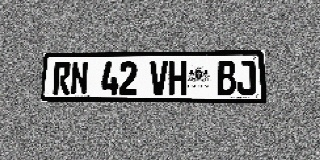2: (119, 61, 137, 95)
4: (101, 61, 119, 95)
B: (217, 60, 236, 95)
H: (168, 61, 187, 95)
J: (236, 60, 256, 95)
N: (70, 62, 88, 95)
R: (53, 62, 71, 95)
V: (150, 61, 168, 95)
